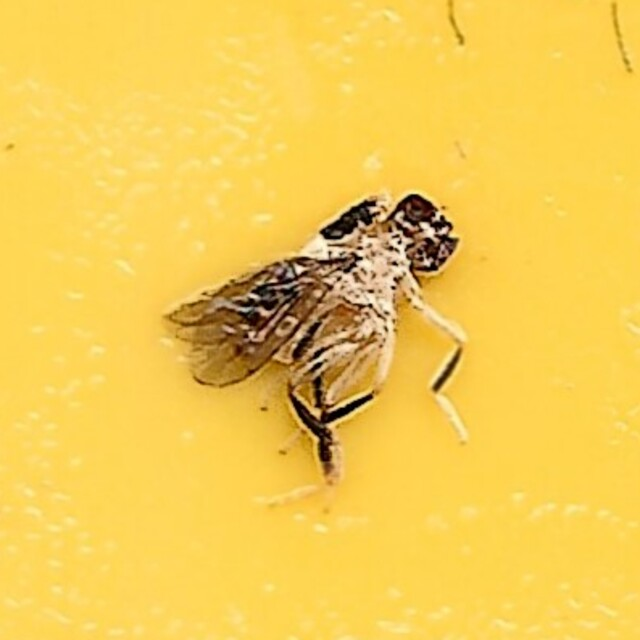Brachycera: (161, 173, 479, 467)
